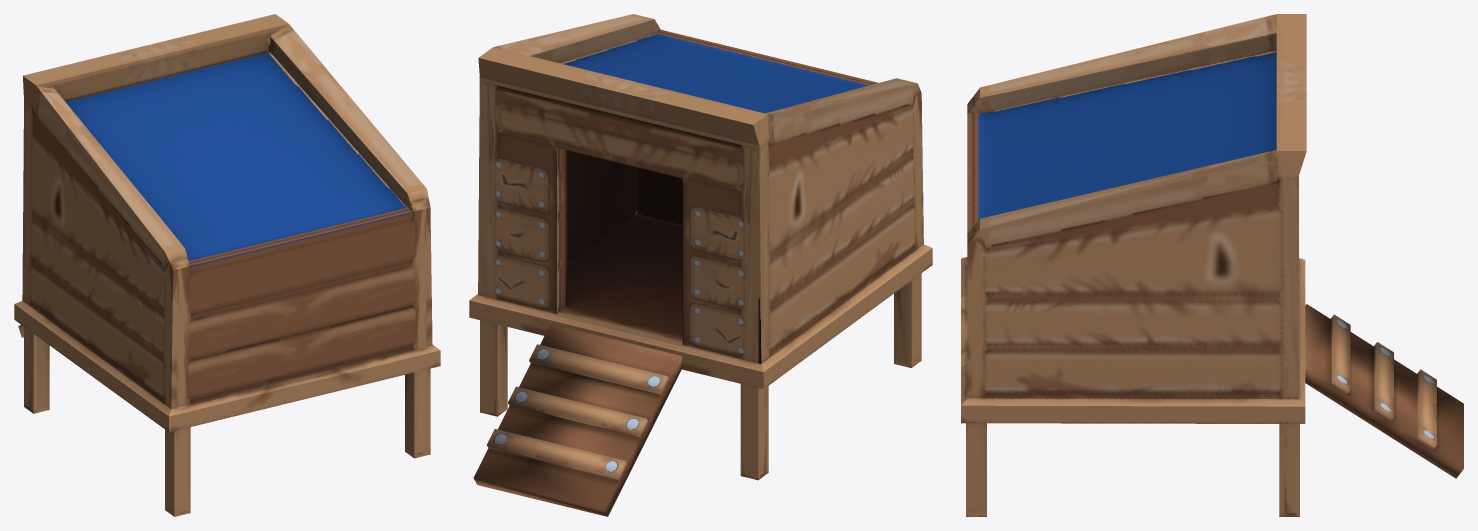
The model's file is chickenhouse.glb.
The picture shows the model from 3 angles, left to right: view 1: azimuth 30°, elevation 25°; view 2: azimuth 150°, elevation 25°; view 3: azimuth 270°, elevation 25°; orthographic projection. The views are drawn at different scales.
Parts seen in each view (by area): view 1: chickenhouse; view 2: chickenhouse, entrer.001; view 3: chickenhouse, entrer.001.
Boxes of the visible parts, x1,y1,x2,y2 form: chickenhouse: (14, 14, 440, 516); chickenhouse: (469, 14, 932, 480); entrer.001: (473, 324, 681, 516); chickenhouse: (961, 14, 1306, 516); entrer.001: (1305, 304, 1463, 478).
Bounding box in the file's own units: 1.08 × 1.25 × 1.56.
1 material, 1 textured.
